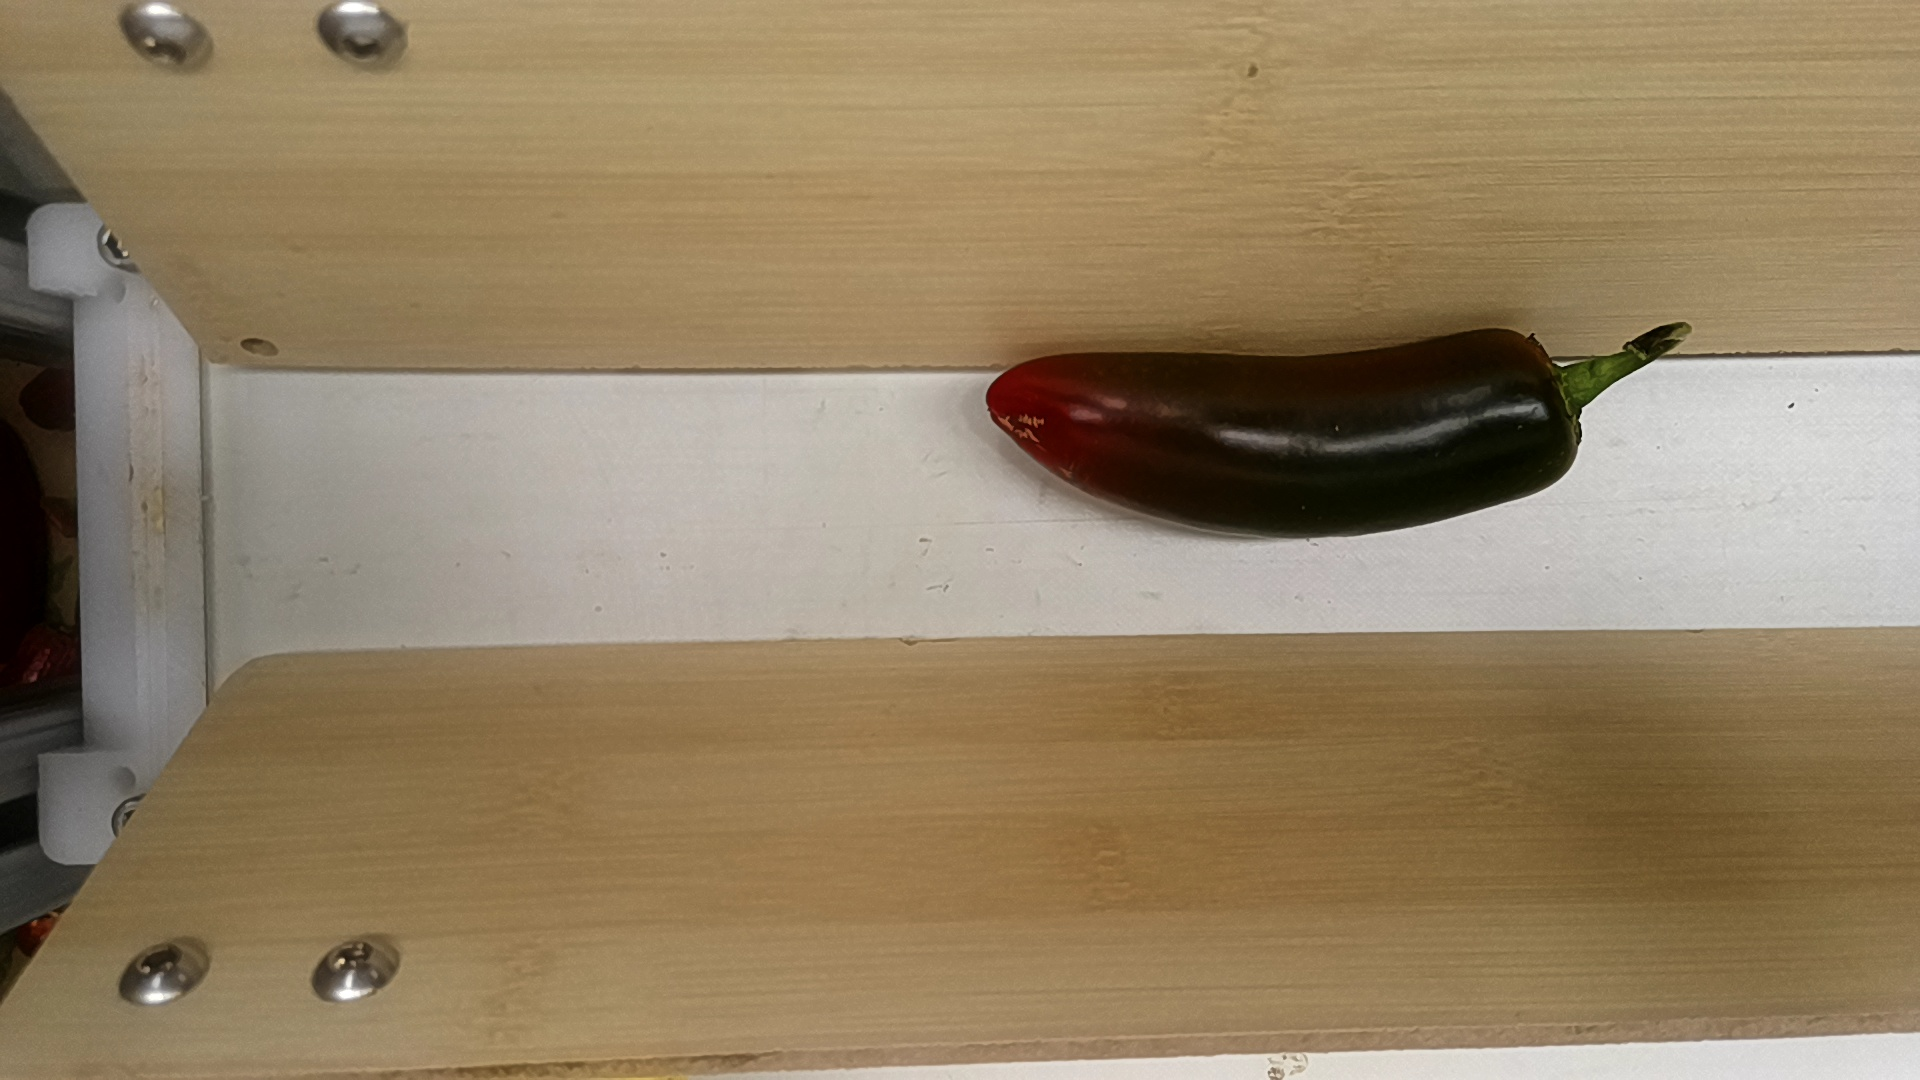Cut Point: (1505, 320, 1602, 502)
